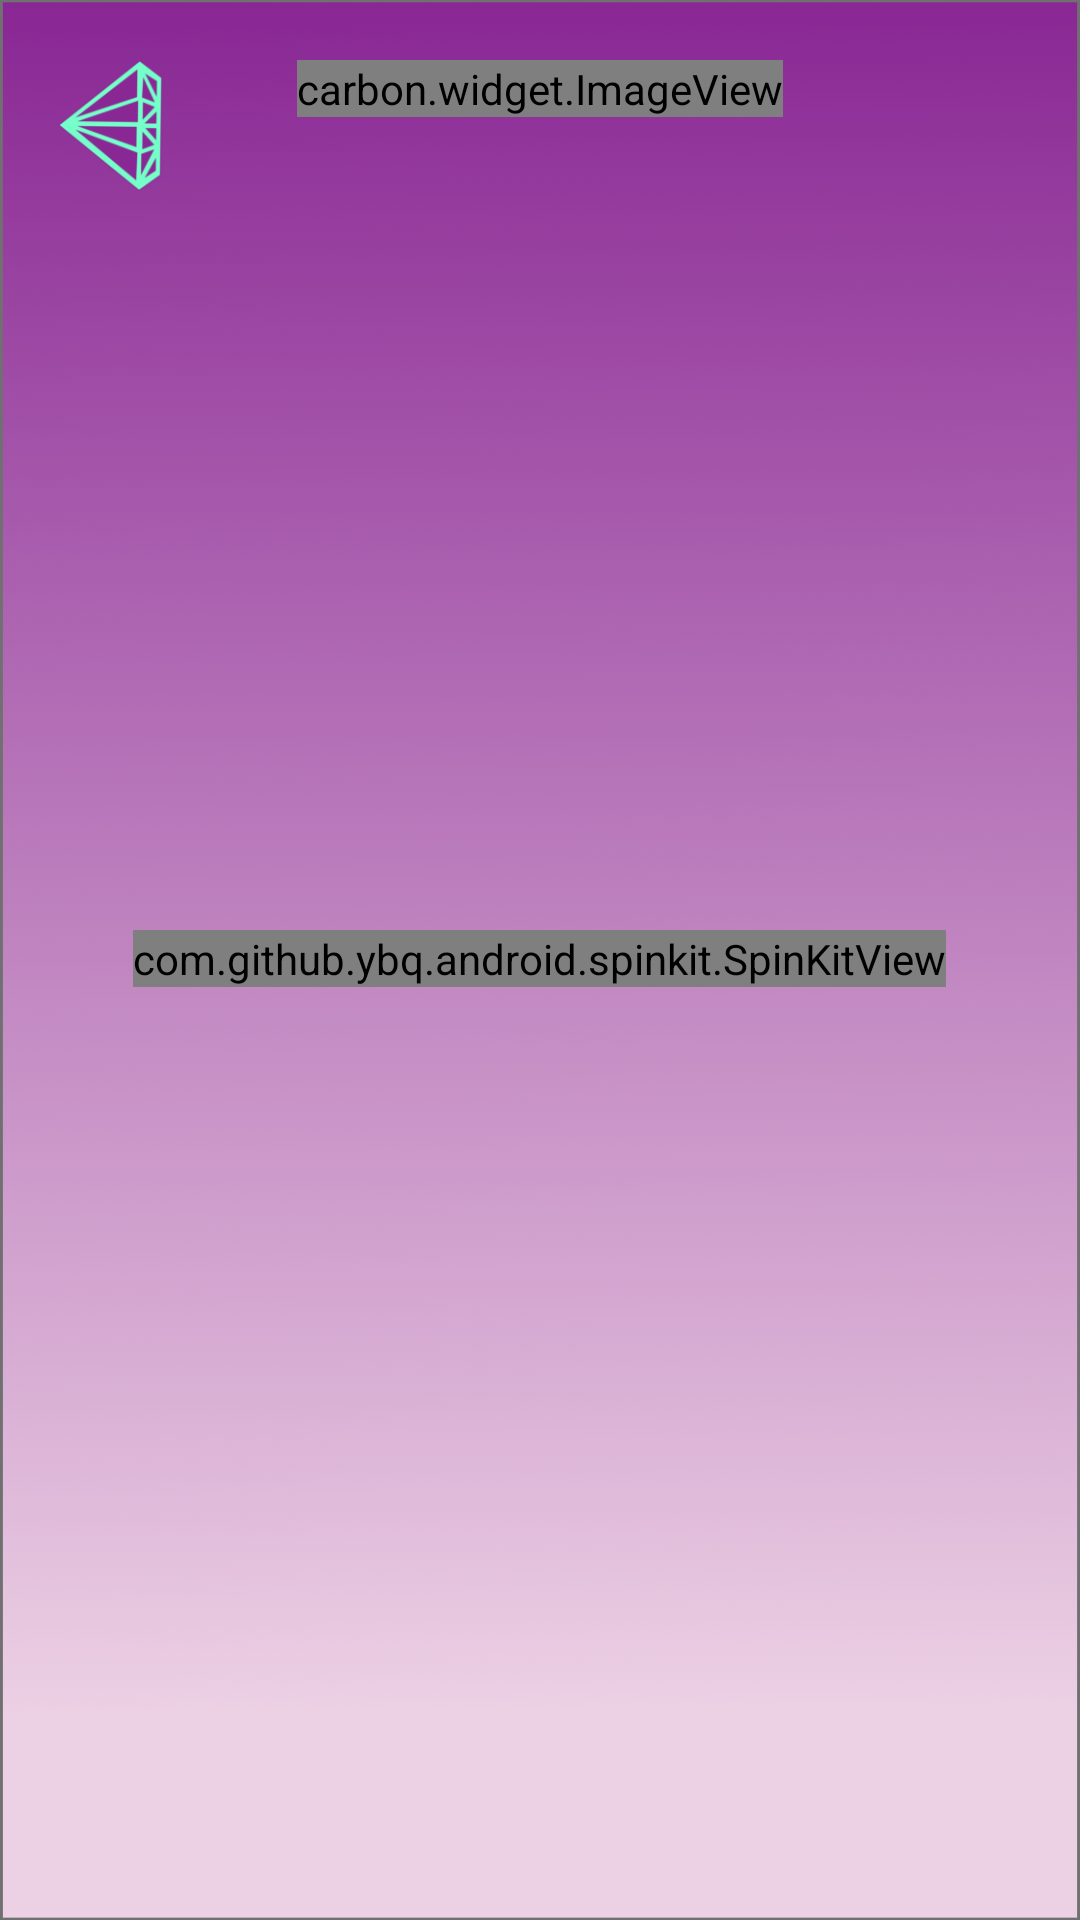

Icons on this 1080×1920 Android screen, each with the point to tap as (x,y):
back jewel: (111,125)
